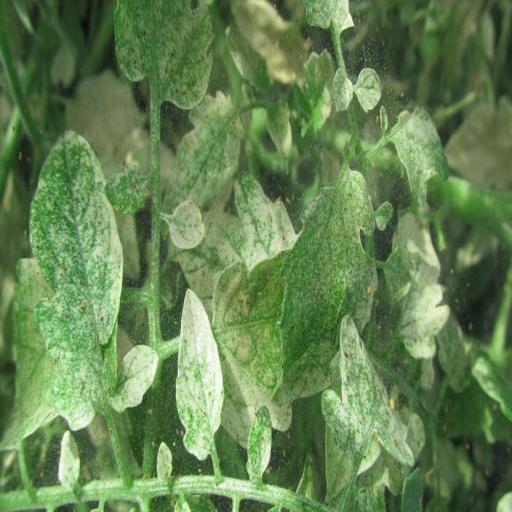disease_tomato: (28, 128, 124, 436), (277, 161, 377, 407), (174, 283, 224, 460)
